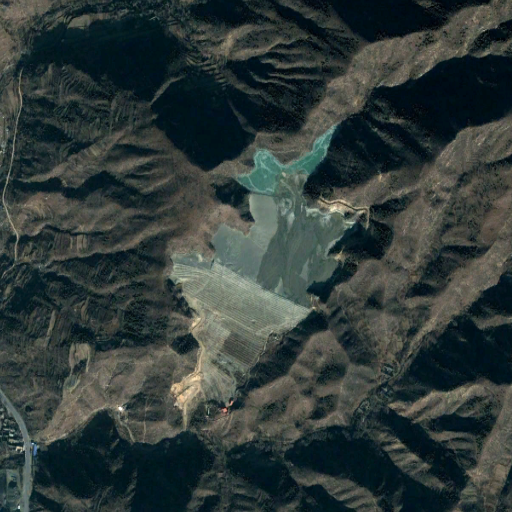tp: (166, 120, 356, 409)
